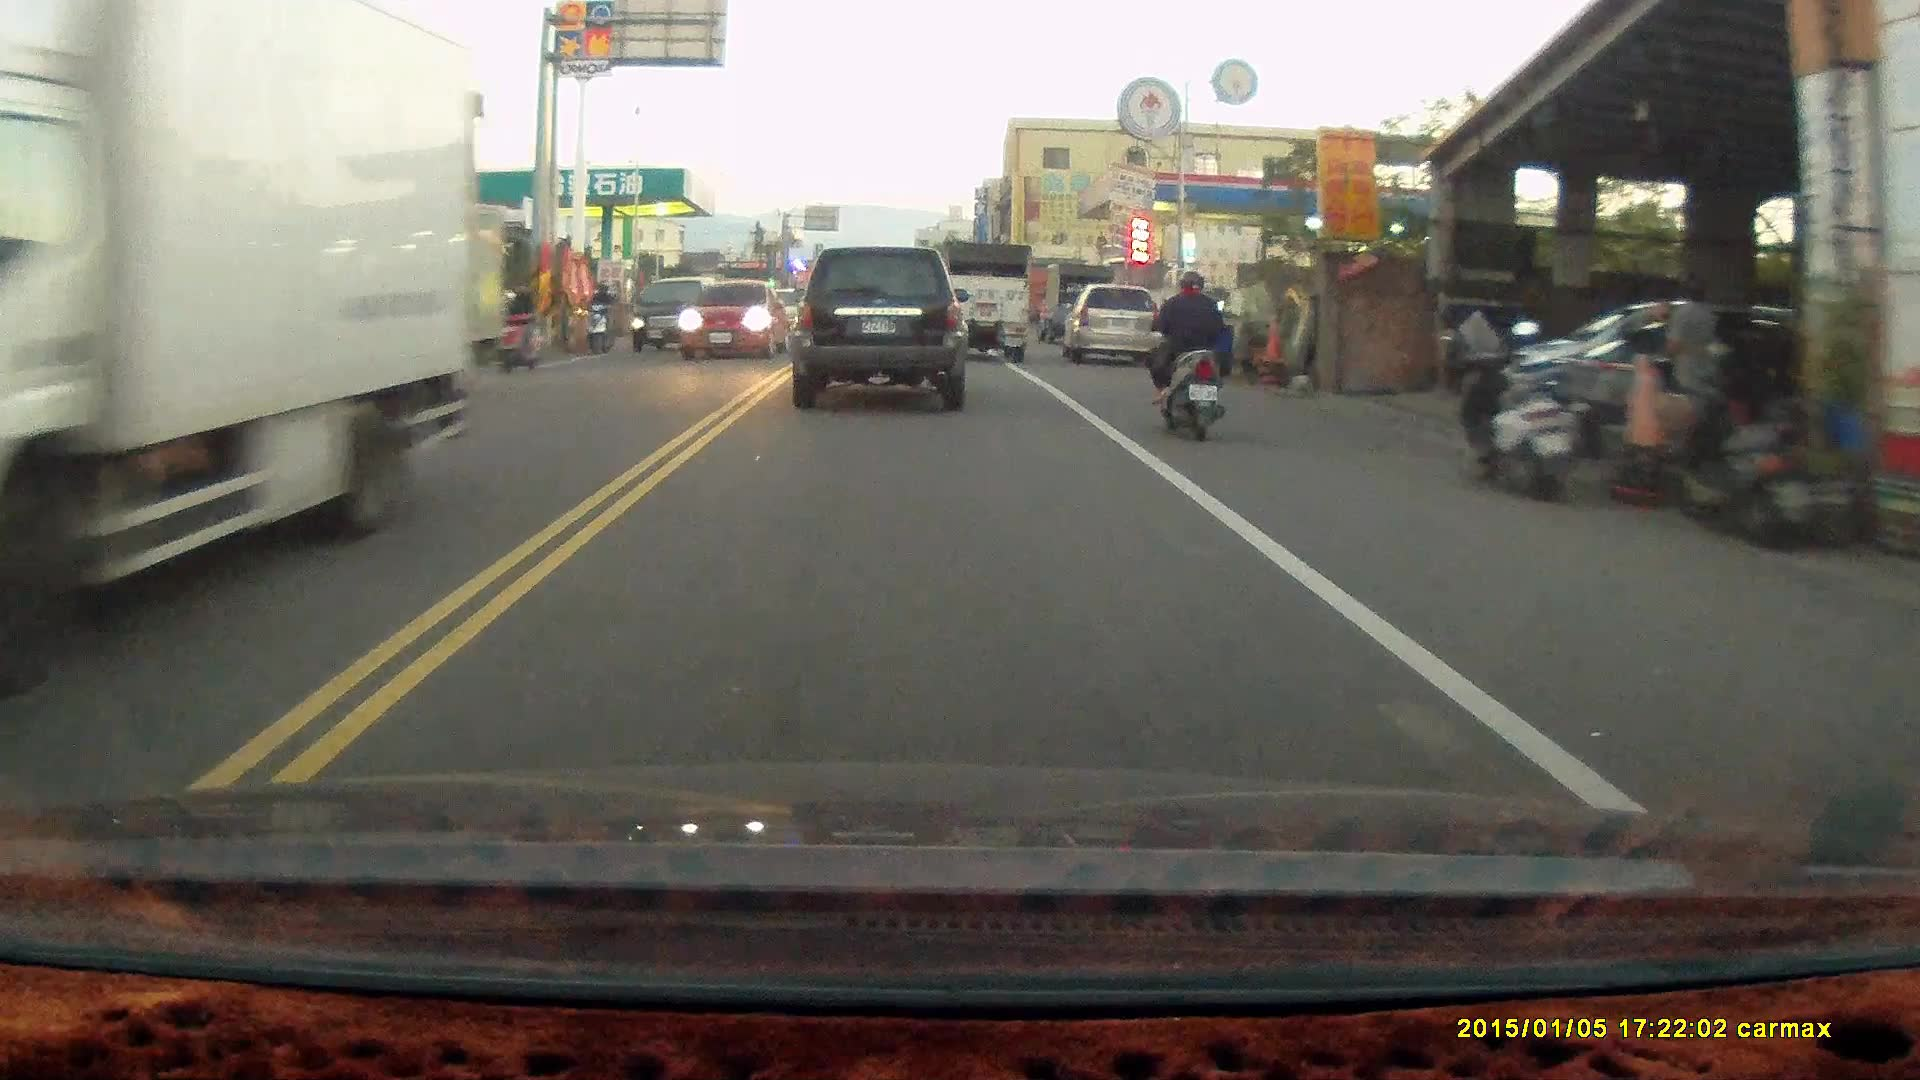pedestrian: (1664, 282, 1717, 432)
rider: (1144, 268, 1235, 444), (484, 282, 551, 372), (584, 279, 618, 352)
vehicle: (1, 26, 475, 645), (786, 243, 969, 412), (940, 238, 1033, 362), (678, 284, 794, 360), (1066, 284, 1160, 369), (631, 276, 723, 353)
